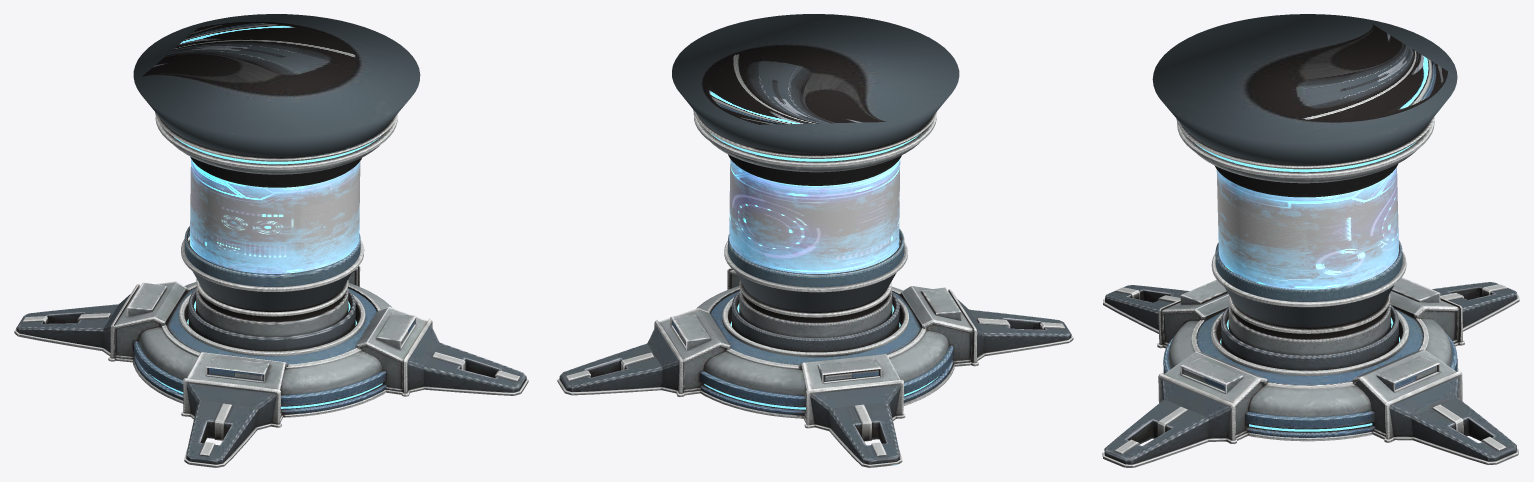
File: Obstaculo_Tope.fbx
The picture shows the model from 3 angles, left to right: view 1: azimuth 30°, elevation 25°; view 2: azimuth 150°, elevation 25°; view 3: azimuth 270°, elevation 25°; orthographic projection. The views are drawn at different scales.
Visible parts, largest first — view 1: Tope; view 2: Tope; view 3: Tope.
Part boxes in pixels (x1=…): Tope: x1=14, y1=14, x2=528, y2=467; Tope: x1=557, y1=14, x2=1073, y2=467; Tope: x1=1102, y1=14, x2=1519, y2=467.
Bounding box in the file's own units: 325 × 261 × 325.
Materials: 2 (1 with a texture image).
